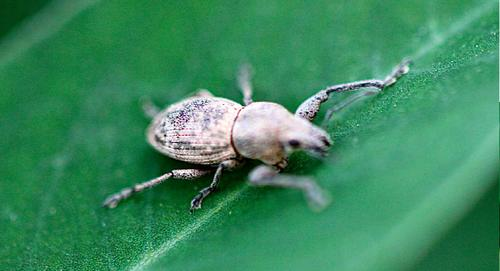Curculionidae: (101, 58, 415, 216)
